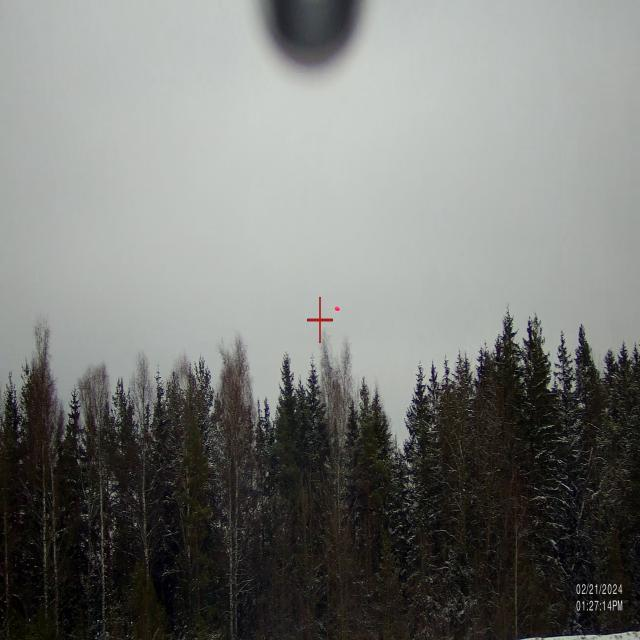entire: (330, 298, 344, 319)
